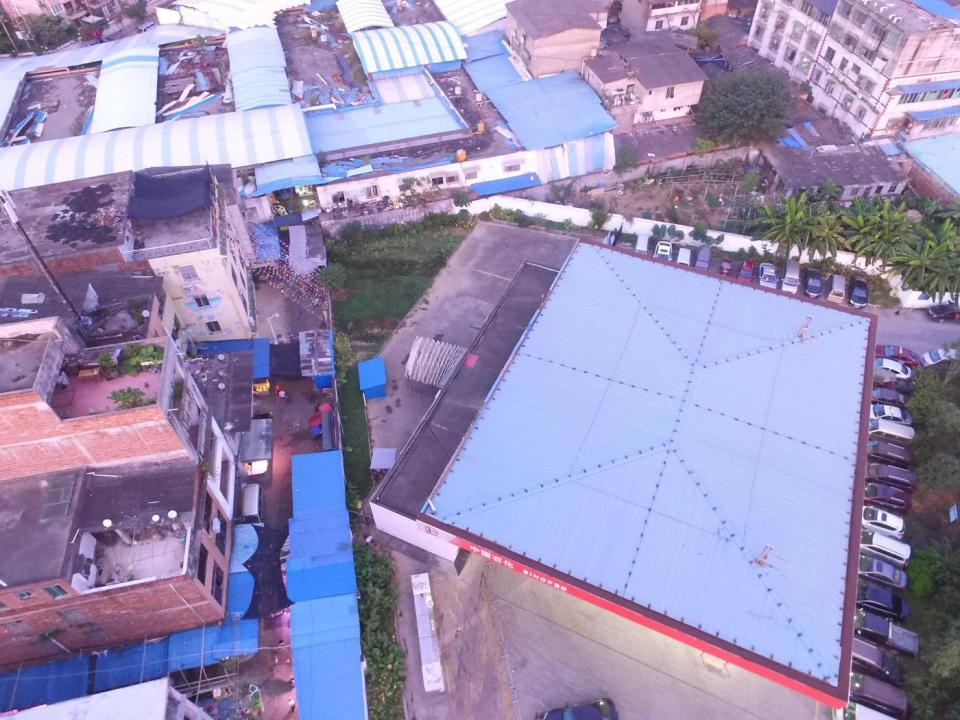car: (851, 637, 903, 684), (856, 554, 908, 593), (855, 583, 909, 620), (539, 696, 617, 720), (863, 482, 913, 516), (864, 461, 915, 492), (862, 505, 905, 540), (866, 440, 911, 469), (867, 403, 912, 426), (875, 344, 920, 367), (873, 357, 911, 379), (921, 348, 960, 369), (926, 302, 959, 324), (847, 275, 868, 309), (871, 388, 907, 407), (757, 262, 777, 290), (803, 268, 821, 298), (652, 240, 673, 262), (735, 260, 754, 283)
van: (855, 610, 920, 658), (849, 673, 907, 718), (858, 532, 910, 567), (832, 700, 902, 720), (868, 419, 916, 447), (240, 483, 264, 526), (872, 367, 909, 393), (781, 258, 801, 294), (825, 274, 845, 304), (694, 245, 712, 271), (634, 234, 648, 256), (676, 247, 690, 267), (136, 21, 155, 34)
